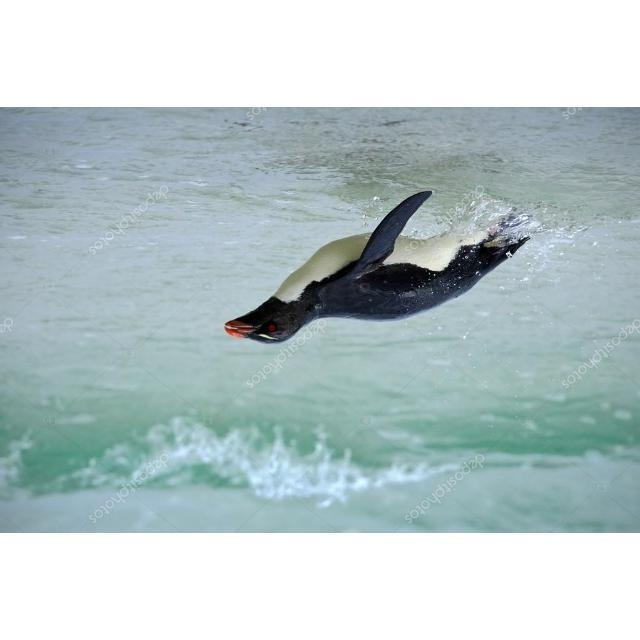penguin: (222, 189, 532, 346)
